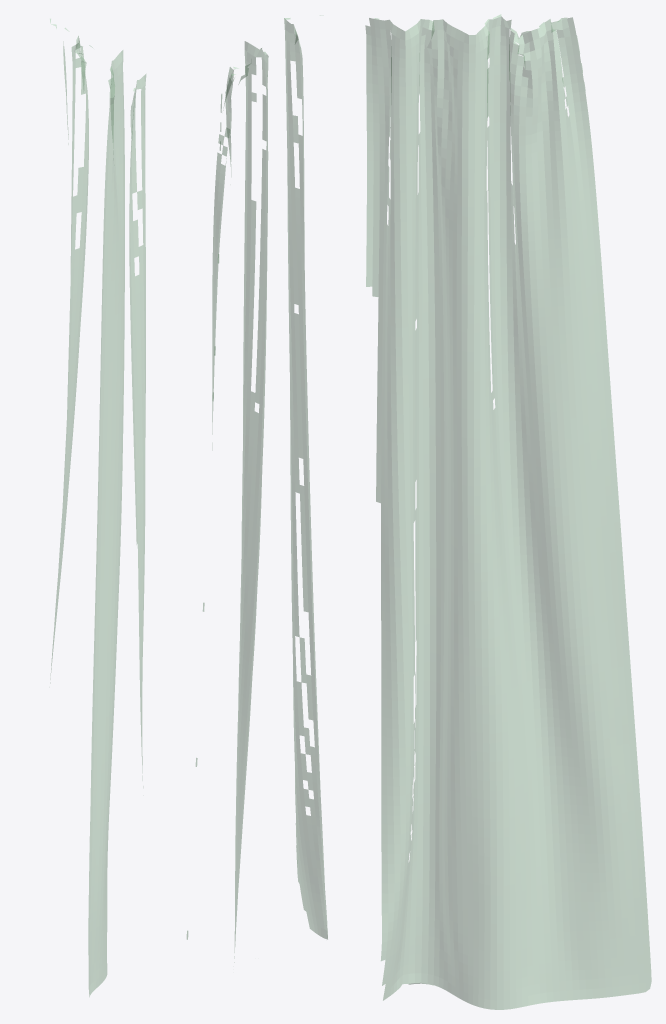
File: curtain_closed.glb
3 renders of one model, left to right at view 1: azimuth 30°, elevation 25°; view 2: azimuth 150°, elevation 25°; view 3: azimuth 270°, elevation 25°, orthographic. The views are drawn at different scales.
Parts seen in each view (by area): view 1: cartain.001; view 2: cartain.001; view 3: cartain.001.
Boxes of the visible parts, x1=… form: cartain.001: x1=50, y1=18, x2=146, y2=996; cartain.001: x1=186, y1=15, x2=327, y2=962; cartain.001: x1=365, y1=14, x2=651, y2=1009.
Bounding box in the file's own units: 0.4067 × 6.5 × 1.72.
